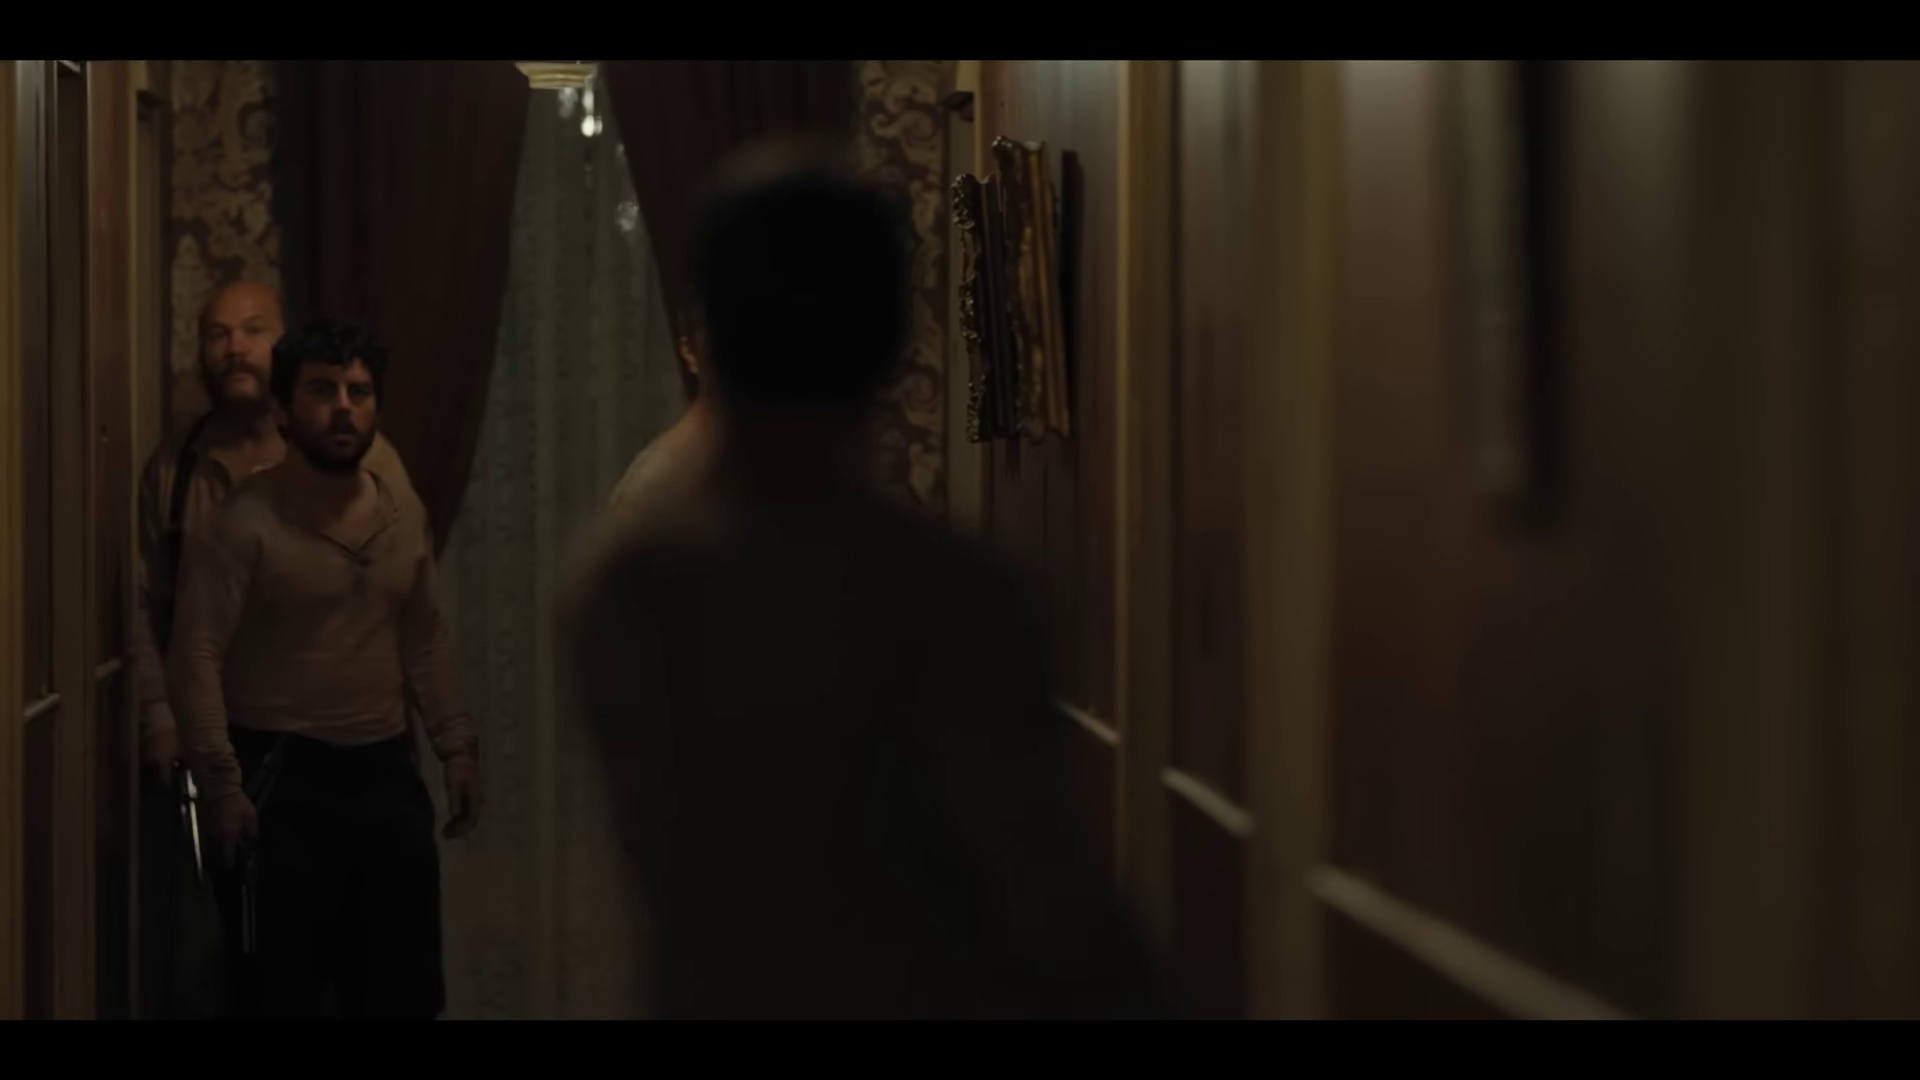gun: (160, 756, 215, 887), (225, 815, 264, 959)
p_w_gun: (178, 315, 491, 1026), (125, 281, 418, 1025)
p_wo_gun_not_carrying_normal_pose: (567, 136, 1135, 1009)
